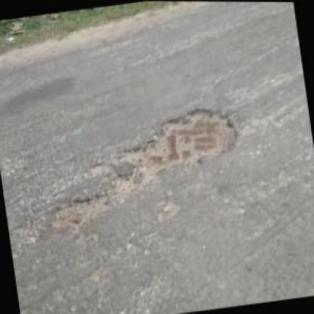Hueco: (103, 100, 248, 200), (46, 189, 118, 238)
